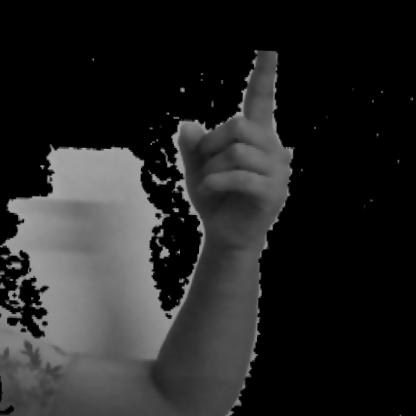one: (64, 39, 328, 415)
